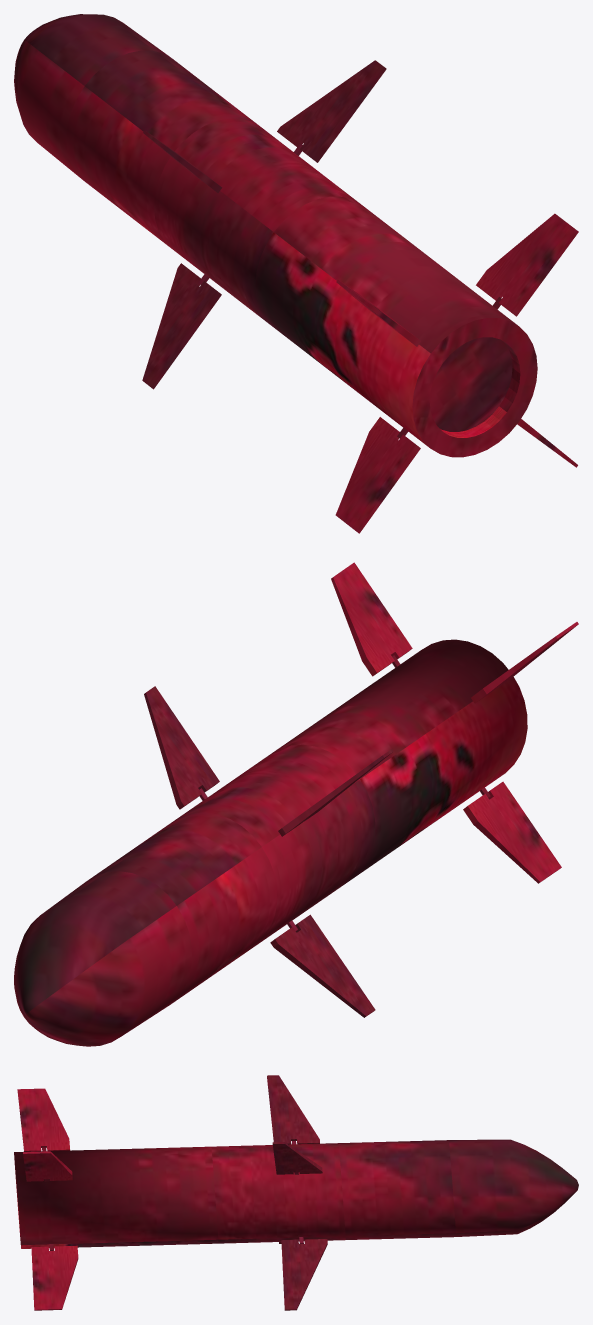
Rendered from enemyBullet.glb.
3 renders of one model, top to bottom at view 1: azimuth 30°, elevation 25°; view 2: azimuth 150°, elevation 25°; view 3: azimuth 270°, elevation 25°, orthographic. The views are drawn at different scales.
Parts seen in each view (by area): view 1: Cylinder.003_Cylinder.005; view 2: Cylinder.003_Cylinder.005; view 3: Cylinder.003_Cylinder.005.
Part boxes in pixels (left/top/right/bottom): Cylinder.003_Cylinder.005: left=14, top=14, right=578, bottom=533; Cylinder.003_Cylinder.005: left=14, top=562, right=578, bottom=1046; Cylinder.003_Cylinder.005: left=14, top=1075, right=578, bottom=1310.
Bounding box in the file's own units: 3.9 × 4.11 × 12.14.
Materials: 1 (1 with a texture image).
